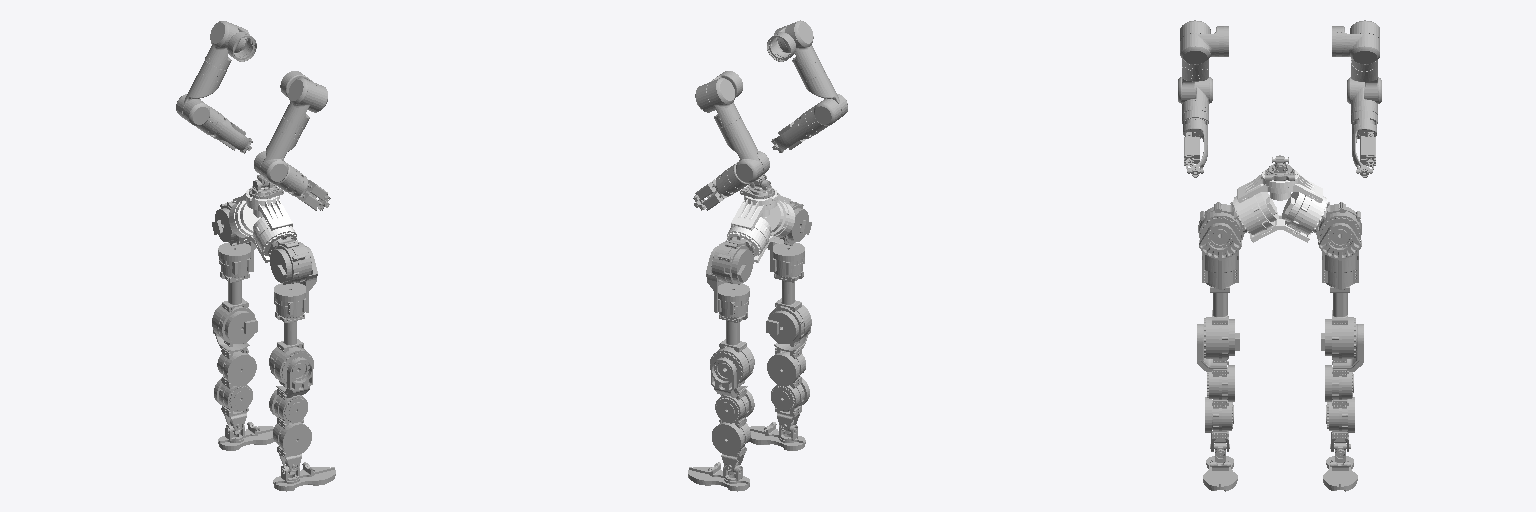
--- What the picture shows (computed from the rendered views, not written in the file) ---
3 views of the same robot in one strip: view 1: azimuth 30°, elevation 25°; view 2: azimuth 150°, elevation 25°; view 3: azimuth 270°, elevation 25° (orthographic).
Robot: dexbot — 30 links, 29 joints (12 revolute, 17 fixed); root link base_link; default pose: every joint at zero.
Visible links, largest first — view 1: leg_r4_link, base_link, leg_l4_link, leg_l3_link, leg_r1_link, leg_r3_link, arm_r3_link, leg_r2_link, leg_l2_link, arm_r2_link, leg_r6_link, arm_l3_link (+8 smaller); view 2: leg_l4_link, base_link, leg_r4_link, leg_r3_link, leg_l1_link, leg_l3_link, arm_l3_link, leg_l2_link, leg_r2_link, leg_l6_link, arm_l2_link, arm_r3_link (+8 smaller); view 3: base_link, leg_l4_link, leg_r4_link, leg_r2_link, leg_l2_link, leg_l3_link, leg_r3_link, arm_r1_link, arm_l1_link, arm_l5_link, arm_r5_link, leg_l1_link (+8 smaller).
Link boxes in pixels (x1,y1,x2,y2): leg_r4_link: [269, 358, 312, 471]; base_link: [229, 188, 296, 262]; leg_l4_link: [213, 310, 256, 430]; leg_l3_link: [212, 272, 257, 346]; leg_r1_link: [268, 235, 311, 284]; leg_r3_link: [269, 312, 313, 387]; arm_r3_link: [260, 117, 304, 182]; leg_r2_link: [274, 246, 317, 317]; leg_l2_link: [218, 242, 256, 277]; arm_r2_link: [283, 78, 316, 127]; leg_r6_link: [273, 462, 335, 491]; arm_l3_link: [176, 60, 226, 117]; leg_l4_link: [711, 358, 754, 471]; base_link: [727, 188, 794, 262]; leg_r4_link: [767, 309, 810, 430]; leg_r3_link: [766, 271, 811, 346]; leg_l1_link: [711, 235, 755, 284]; leg_l3_link: [710, 312, 754, 387]; arm_l3_link: [719, 117, 762, 182]; leg_l2_link: [706, 246, 749, 317]; leg_r2_link: [767, 242, 804, 277]; leg_l6_link: [688, 462, 749, 491]; arm_l2_link: [706, 78, 740, 127]; arm_r3_link: [798, 60, 847, 117]; base_link: [1233, 169, 1327, 242]; leg_l4_link: [1325, 324, 1363, 451]; leg_r4_link: [1197, 324, 1234, 451]; leg_r2_link: [1199, 223, 1241, 289]; leg_l2_link: [1319, 223, 1361, 289]; leg_l3_link: [1321, 286, 1356, 362]; leg_r3_link: [1204, 286, 1239, 362]; arm_r1_link: [1180, 26, 1228, 63]; arm_l1_link: [1332, 26, 1379, 63]; arm_l5_link: [1351, 110, 1377, 177]; arm_r5_link: [1182, 110, 1208, 177]; leg_l1_link: [1313, 202, 1361, 244].
Size in the robot's own frame: 0.3033 by 0.5764 by 1.4 metres.
Meshes: 30 distinct files referenced, 27 mesh visuals loaded (27 binary STL); not drawn: 3 (reference not matched to a file when rendering).

robot.urdf — dexbot:
<?xml version="1.0" encoding="utf-8"?>
<!-- This URDF was automatically created by SolidWorks to URDF Exporter! Originally created by Stephen Brawner ([email redacted]) 
     Commit Version: 1.6.0-4-g7f85cfe  Build Version: 1.6.7995.38578
     For more information, please see http://wiki.ros.org/sw_urdf_exporter -->
<robot
  name="dexbot">
  <mujoco>
    <compiler meshdir="../meshes/" balanceinertia="true" discardvisual="false"/>
  </mujoco>
  <link
    name="base_link">
    <inertial>
      <origin
        xyz="0.00026092 -2.8127E-06 -0.032217"
        rpy="0 0 0" />
      <mass
        value="6.36148470" />
      <inertia
        ixx="0.04306588"
        ixy="-0.00000008"
        ixz="-0.00001174"
        iyy="0.01886801"
        iyz="0.00000066"
        izz="0.03427573" />
    </inertial>
    <visual>
      <origin
        xyz="0 0 0"
        rpy="0 0 0" />
      <geometry>
        <mesh
          filename="../meshes/base_link.STL" />
      </geometry>
      <material
        name="">
        <color
          rgba="1 1 1 1" />
      </material>
    </visual>
    <collision>
      <origin
        xyz="0 0 0"
        rpy="0 0 0" />
      <geometry>
	    <box size="0.05 0.05 0.05"/>
      </geometry>
    </collision>
  </link>
 
  <link
    name="leg_l1_link">
    <inertial>
      <origin
        xyz="0.0017864690688535 0.116806232663126 -0.06730045557826"
        rpy="0 0 0" />
      <mass
        value="2.52127296" />
      <inertia
        ixx="0.00489363"
        ixy="0.00004173"
        ixz="-0.00002377"
        iyy="0.00398523"
        iyz="0.00008835"
        izz="0.00406691" />
    </inertial>
    <visual>
      <origin
        xyz="0 0 0"
        rpy="0 0 0" />
      <geometry>
        <mesh
          filename="../meshes/leg_l1_link.STL" />
      </geometry>
      <material
        name="">
        <color
          rgba="0.752941176470588 0.752941176470588 0.752941176470588 1" />
      </material>
    </visual>
    <collision>
      <origin
        xyz="0 0 0"
        rpy="0 0 0" />
      <geometry>
        <mesh
          filename="../meshes/leg_l1_link.STL" />
      </geometry>
    </collision>
  </link>
  <joint
    name="leg_l1_joint"
    type="revolute">
    <origin
      xyz="0 0.046765 -0.047489"
      rpy="0 0 0" />
    <parent
      link="base_link" />
    <child
      link="leg_l1_link" />
    <axis
      xyz="0 0.86603 -0.5" />
    <limit
      lower="-2.878"
      upper="2.878"
      effort="360"
      velocity="10" />
  </joint>
  <link
    name="leg_l2_link">
    <inertial>
      <origin
        xyz="0.0181611526889743 7.56912721500136E-07 -0.100016047593423"
        rpy="0 0 0" />
      <mass
        value="1.73504778" />
      <inertia
        ixx="0.00395397"
        ixy="-0.00000001"
        ixz="-0.00093866"
        iyy="0.00413227"
        iyz="-0.00000002"
        izz="0.00269158" />
    </inertial>
    <visual>
      <origin
        xyz="0 0 0"
        rpy="0 0 0" />
      <geometry>
        <mesh
          filename="../meshes/leg_l2_link.STL" />
      </geometry>
      <material
        name="">
        <color
          rgba="0.752941176470588 0.752941176470588 0.752941176470588 1" />
      </material>
    </visual>
    <collision>
      <origin
        xyz="0 0 0"
        rpy="0 0 0" />
      <geometry>
        <mesh
          filename="../meshes/leg_l2_link.STL" />
      </geometry>
    </collision>
  </link>
  <joint
    name="leg_l2_joint"
    type="revolute">
    <origin
      xyz="0 0.12298 -0.071"
      rpy="0 0 0" />
    <parent
      link="leg_l1_link" />
    <child
      link="leg_l2_link" />
    <axis
      xyz="1 0 0" />
    <limit
      lower="-0.523"
      upper="3.663"
      effort="360"
      velocity="10" />
  </joint>
  <link
    name="leg_l3_link">
    <inertial>
      <origin
        xyz="0.000114524600190401 0.00164777125622231 -0.147066721883769"
        rpy="0 0 0" />
      <mass
        value="2.61656788" />
      <inertia
        ixx="0.00782239"
        ixy="0.00006403"
        ixz="0.00007604"
        iyy="0.00840438"
        iyz="0.00005952"
        izz="0.00374500" />
    </inertial>
    <visual>
      <origin
        xyz="0 0 0"
        rpy="0 0 0" />
      <geometry>
        <mesh
          filename="../meshes/leg_l3_link.STL" />
      </geometry>
      <material
        name="">
        <color
          rgba="0.752941176470588 0.752941176470588 0.752941176470588 1" />
      </material>
    </visual>
    <collision>
      <origin
        xyz="0 0 0"
        rpy="0 0 0" />
      <geometry>
        <mesh
          filename="../meshes/leg_l3_link.STL" />
      </geometry>
    </collision>
  </link>
  <joint
    name="leg_l3_joint"
    type="revolute">
    <origin
      xyz="0 0 -0.167"
      rpy="0 0 0" />
    <parent
      link="leg_l2_link" />
    <child
      link="leg_l3_link" />
    <axis
      xyz="0 0 1" />
    <limit
      lower="-2.791"
      upper="2.791"
      effort="120"
      velocity="10" />
  </joint>
  <link
    name="leg_l4_link">
    <inertial>
      <origin
        xyz="-2.42788361047336E-08 0.00822937854237335 -0.173854656992678"
        rpy="0 0 0" />
      <mass
        value="3.31554813 " />
      <inertia
        ixx="0.01958814"
        ixy="1.45675411582526E-10"
        ixz="3.648473073682E-10"
        iyy="0.01919917"
        iyz="-0.00126641"
        izz="0.00408025" />
    </inertial>
    <visual>
      <origin
        xyz="0 0 0"
        rpy="0 0 0" />
      <geometry>
        <mesh
          filename="../meshes/leg_l4_link.STL" />
      </geometry>
      <material
        name="">
        <color
          rgba="0.752941176470588 0.752941176470588 0.752941176470588 1" />
      </material>
    </visual>
    <collision>
      <origin
        xyz="0 0 0"
        rpy="0 0 0" />
      <geometry>
	    <box size="0.1 0.1 0.2"/>
      </geometry>
    </collision>
  </link>
  <joint
    name="leg_l4_joint"
    type="revolute">
    <origin
      xyz="0 0 -0.173"
      rpy="0 0 0" />
    <parent
      link="leg_l3_link" />
    <child
      link="leg_l4_link" />
    <axis
      xyz="0 1 0" />
    <limit
      lower="-2.355"
      upper="2.355"
      effort="360"
      velocity="10" />
  </joint>
  <link
    name="leg_l5_link">
    <inertial>
      <origin
        xyz="4.00159781425996E-05 -1.65302931448563E-05 -0.00782114986776949"
        rpy="0 0 0" />
      <mass
        value="0.07526525" />
      <inertia
        ixx="0.00001536"
        ixy="2.28805291083391E-22"
        ixz="0.00000014"
        iyy="0.00001554"
        iyz="-2.04482003272117E-20"
        izz="0.00001540" />
    </inertial>
    <visual>
      <origin
        xyz="0 0 0"
        rpy="0 0 0" />
      <geometry>
        <mesh
          filename="../meshes/leg_l5_link.STL" />
      </geometry>
      <material
        name="">
        <color
          rgba="0.752941176470588 0.752941176470588 0.752941176470588 1" />
      </material>
    </visual>
    <collision>
      <origin
        xyz="0 0 0"
        rpy="0 0 0" />
      <geometry>
        <mesh
          filename="../meshes/leg_l5_link.STL" />
      </geometry>
    </collision>
  </link>
  <joint
    name="leg_l5_joint"
    type="revolute">
    <origin
      xyz="0 0 -0.34"
      rpy="0 -0 0" />
    <parent
      link="leg_l4_link" />
    <child
      link="leg_l5_link" />
    <axis
      xyz="0 1 0" />
    <limit
      lower="-1.046"
      upper="0.436"
      effort="120"
      velocity="10" />
    <dynamics
      damping="0."
      friction="0.1" />
  </joint>
  <link
    name="leg_l6_link">
    <inertial>
      <origin
        xyz="0.0457872515086006 -6.33583149833861E-09 -0.0382686559903004"
        rpy="0 0 0" />
      <mass
        value="0.53640572" />
      <inertia
        ixx="0.00030450"
        ixy="-6.41793064473971E-11"
        ixz="0.00006785"
        iyy="0.00162803"
        iyz="-5.36686897038477E-11"
        izz="0.00177516" />
    </inertial>
    <visual>
      <origin
        xyz="0 0 0"
        rpy="0 0 0" />
      <geometry>
        <mesh
          filename="../meshes/leg_l6_link.STL" />
      </geometry>
      <material
        name="">
        <color
          rgba="0.752941176470588 0.752941176470588 0.752941176470588 1" />
      </material>
    </visual>
    <collision>
      <origin
        xyz="0 0 0"
        rpy="0 0 0" />
      <geometry>
        <mesh
          filename="../meshes/leg_l6_link.STL" />
      </geometry>
    </collision>
  </link>
  <joint
    name="leg_l6_joint"
    type="revolute">
    <origin
      xyz="0 0 -0.015"
      rpy="0 0 0" />
    <parent
      link="leg_l5_link" />
    <child
      link="leg_l6_link" />
    <axis
      xyz="1 0 0" />
    <limit
      lower="-0.261"
      upper="0.261"
      effort="120"
      velocity="10" />
    <dynamics
      damping="0."
      friction="0.1" />
  </joint>
  <link
    name="leg_r1_link">
    <inertial>
      <origin
        xyz="0.00178614318038721 -0.11680589348535 -0.0673010430487607"
        rpy="0 0 0" />
      <mass
        value="2.52127296" />
      <inertia
        ixx="0.00489363"
        ixy="-0.00004169"
        ixz="-0.00002379"
        iyy="0.00398515"
        iyz="-0.00008830"
        izz="0.00406699" />
    </inertial>
    <visual>
      <origin
        xyz="0 0 0"
        rpy="0 0 0" />
      <geometry>
        <mesh
          filename="../meshes/leg_r1_link.STL" />
      </geometry>
      <material
        name="">
        <color
          rgba="0.752941176470588 0.752941176470588 0.752941176470588 1" />
      </material>
    </visual>
    <collision>
      <origin
        xyz="0 0 0"
        rpy="0 0 0" />
      <geometry>
        <mesh
          filename="../meshes/leg_r1_link.STL" />
      </geometry>
    </collision>
  </link>
  <joint
    name="leg_r1_joint"
    type="revolute">
    <origin
      xyz="0 -0.046765 -0.047489"
      rpy="0 -0 0" />
    <parent
      link="base_link" />
    <child
      link="leg_r1_link" />
    <axis
      xyz="0 0.86603 0.5" />
    <limit
      lower="-2.878"
      upper="2.878"
      effort="360"
      velocity="10" />
  </joint>
  <link
    name="leg_r2_link">
    <inertial>
      <origin
        xyz="0.0181611526889737 7.56912739346971E-07 -0.100016047593425"
        rpy="0 0 0" />
      <mass
        value="1.73504778 " />
      <inertia
        ixx="0.00395397"
        ixy="-0.00000001"
        ixz="-0.00093866"
        iyy="0.00413227"
        iyz="-0.00000002"
        izz="0.00269158" />
    </inertial>
    <visual>
      <origin
        xyz="0 0 0"
        rpy="0 0 0" />
      <geometry>
        <mesh
          filename="../meshes/leg_r2_link.STL" />
      </geometry>
      <material
        name="">
        <color
          rgba="0.752941176470588 0.752941176470588 0.752941176470588 1" />
      </material>
    </visual>
    <collision>
      <origin
        xyz="0 0 0"
        rpy="0 0 0" />
      <geometry>
        <mesh
          filename="../meshes/leg_r2_link.STL" />
      </geometry>
    </collision>
  </link>
  <joint
    name="leg_r2_joint"
    type="revolute">
    <origin
      xyz="0 -0.12298 -0.071"
      rpy="0 0 0" />
    <parent
      link="leg_r1_link" />
    <child
      link="leg_r2_link" />
    <axis
      xyz="1 0 0" />
    <limit
      lower="-3.663"
      upper="0.523"
      effort="360"
      velocity="10" />
  </joint>
  <link
    name="leg_r3_link">
    <inertial>
      <origin
        xyz="0.000114524600189936 -0.00164777130191504 -0.152066096139861"
        rpy="0 0 0" />
      <mass
        value="2.61656788" />
      <inertia
        ixx="0.00782235"
        ixy="-0.00006403"
        ixz="0.00007614"
        iyy="0.00840433"
        iyz="-0.00005955"
        izz="0.00374500" />
    </inertial>
    <visual>
      <origin
        xyz="0 0 0"
        rpy="0 0 0" />
      <geometry>
        <mesh
          filename="../meshes/leg_r3_link.STL" />
      </geometry>
      <material
        name="">
        <color
          rgba="0.752941176470588 0.752941176470588 0.752941176470588 1" />
      </material>
    </visual>
    <collision>
      <origin
        xyz="0 0 0"
        rpy="0 0 0" />
      <geometry>
        <mesh
          filename="../meshes/leg_r3_link.STL" />
      </geometry>
    </collision>
  </link>
  <joint
    name="leg_r3_joint"
    type="revolute">
    <origin
      xyz="0 0 -0.162"
      rpy="0 0 0" />
    <parent
      link="leg_r2_link" />
    <child
      link="leg_r3_link" />
    <axis
      xyz="0 0 1" />
    <limit
      lower="-2.791"
      upper="2.791"
      effort="120"
      velocity="10" />
  </joint>
  <link
    name="leg_r4_link">
    <inertial>
      <origin
        xyz="2.42790771935745E-08 -0.00822937854297046 -0.173854656994349"
        rpy="0 0 0" />
      <mass
        value="3.31554813" />
      <inertia
        ixx="0.01958814"
        ixy="1.4568009343734E-10"
        ixz="-3.64833965217596E-10"
        iyy="0.01919917"
        iyz="0.00126641"
        izz="0.00408025" />
    </inertial>
    <visual>
      <origin
        xyz="0 0 0"
        rpy="0 0 0" />
      <geometry>
        <mesh
          filename="../meshes/leg_r4_link.STL" />
      </geometry>
      <material
        name="">
        <color
          rgba="0.752941176470588 0.752941176470588 0.752941176470588 1" />
      </material>
    </visual>
    <collision>
      <origin
        xyz="0 0 0"
        rpy="0 0 0" />
      <geometry>
	    <box size="0.1 0.1 0.2"/>
      </geometry>
    </collision>
  </link>
  <joint
    name="leg_r4_joint"
    type="revolute">
    <origin
      xyz="0 0 -0.178"
      rpy="0 0 0" />
    <parent
      link="leg_r3_link" />
    <child
      link="leg_r4_link" />
    <axis
      xyz="0 1 0" />
    <limit
      lower="-2.355"
      upper="2.355"
      effort="360"
      velocity="10" />
  </joint>
  <link
    name="leg_r5_link">
    <inertial>
      <origin
        xyz="4.00159781427515E-05 1.65302931921796E-05 -0.00782114986777116"
        rpy="0 0 0" />
      <mass
        value="0.07526525 " />
      <inertia
        ixx="0.00001536"
        ixy="-6.76802670148237E-22"
        ixz="0.00000014"
        iyy="0.00001554"
        iyz="-6.28566146662745E-21"
        izz="0.00001540" />
    </inertial>
    <visual>
      <origin
        xyz="0 0 0"
        rpy="0 0 0" />
      <geometry>
        <mesh
          filename="../meshes/leg_r5_link.STL" />
      </geometry>
      <material
        name="">
        <color
          rgba="0.752941176470588 0.752941176470588 0.752941176470588 1" />
      </material>
    </visual>
    <collision>
      <origin
        xyz="0 0 0"
        rpy="0 0 0" />
      <geometry>
        <mesh
          filename="../meshes/leg_r5_link.STL" />
      </geometry>
    </collision>
  </link>
  <joint
    name="leg_r5_joint"
    type="revolute">
    <origin
      xyz="0 0 -0.34"
      rpy="0 -0 0" />
    <parent
      link="leg_r4_link" />
    <child
      link="leg_r5_link" />
    <axis
      xyz="0 1 0" />
    <limit
      lower="-1.046"
      upper="0.436"
      effort="120"
      velocity="10" />
    <dynamics
      damping="0."
      friction="0.1" />
  </joint>
  <link
    name="leg_r6_link">
    <inertial>
      <origin
        xyz="0.0457872515086024 -6.33582283859901E-09 -0.0382686559903024"
        rpy="0 0 0" />
      <mass
        value="0.53640572" />
      <inertia
        ixx="0.00030450"
        ixy="-6.41793116816966E-11"
        ixz="0.00006785"
        iyy="0.00162803"
        iyz="-5.36686913549503E-11"
        izz="0.00177516" />
    </inertial>
    <visual>
      <origin
        xyz="0 0 0"
        rpy="0 0 0" />
      <geometry>
        <mesh
          filename="../meshes/leg_r6_link.STL" />
      </geometry>
      <material
        name="">
        <color
          rgba="0.752941176470588 0.752941176470588 0.752941176470588 1" />
      </material>
    </visual>
    <collision>
      <origin
        xyz="0 0 0"
        rpy="0 0 0" />
      <geometry>
        <mesh
          filename="../meshes/leg_r6_link.STL" />
      </geometry>
    </collision>
  </link>
  <joint
    name="leg_r6_joint"
    type="revolute">
    <origin
      xyz="0 0 -0.015"
      rpy="0 0 0" />
    <parent
      link="leg_r5_link" />
    <child
      link="leg_r6_link" />
    <axis
      xyz="1 0 0" />
    <limit
      lower="-0.261"
      upper="0.261"
      effort="120"
      velocity="10" />
    <dynamics
      damping="0."
      friction="0.1" />
  </joint>
  <link
    name="waist_yaw_link">
    <inertial>
      <origin
        xyz="0.00787627921192027 -2.35767009722762E-05 -0.0105472849579242"
        rpy="0 0 0" />
      <mass
        value="0.24957042" />
      <inertia
        ixx="0.00019007"
        ixy="0.00000020"
        ixz="-0.00000368"
        iyy="0.00021255"
        iyz="0.00000002"
        izz="0.00030541" />
    </inertial>
    <visual>
      <origin
        xyz="0 0 0"
        rpy="0 0 0" />
      <geometry>
        <mesh
          filename="../meshes/waist_yaw_link.STL" />
      </geometry>
      <material
        name="">
        <color
          rgba="0.752941176470588 0.752941176470588 0.752941176470588 1" />
      </material>
    </visual>
    <collision>
      <origin
        xyz="0 0 0"
        rpy="0 0 0" />
      <geometry>
        <mesh
          filename="../meshes/waist_yaw_link.STL" />
      </geometry>
    </collision>
  </link>
  <joint
    name="waist_yaw_joint"
    type="fixed">
    <origin
      xyz="0 0 0.068702"
      rpy="0 0.05 0" />
    <parent
      link="base_link" />
    <child
      link="waist_yaw_link" />
    <axis
      xyz="0 0 1" />
    <limit
      lower="-1"
      upper="1"
      effort="120"
      velocity="10" />
  </joint>
  <link
    name="waist_roll_link">
    <inertial>
      <origin
        xyz="-0.000388928550485794 0.000350132910345151 0.00738202287463685"
        rpy="0 0 0" />
      <mass
        value="0.16196054" />
      <inertia
        ixx="0.00002646"
        ixy="-0.00000002"
        ixz="-0.00000046"
        iyy="0.00003035"
        iyz="-0.00000038"
        izz="0.00003003" />
    </inertial>
    <visual>
      <origin
        xyz="0 0 0"
        rpy="0 0 0" />
      <geometry>
        <mesh
          filename="../meshes/waist_roll_link.STL" />
      </geometry>
      <material
        name="">
        <color
          rgba="0.752941176470588 0.752941176470588 0.752941176470588 1" />
      </material>
    </visual>
    <collision>
      <origin
        xyz="0 0 0"
        rpy="0 0 0" />
      <geometry>
        <mesh
          filename="../meshes/waist_roll_link.STL" />
      </geometry>
    </collision>
  </link>
  <joint
    name="waist_roll_joint"
    type="fixed">
    <origin
      xyz="0 0 0.013"
      rpy="0 0 0" />
    <parent
      link="waist_yaw_link" />
    <child
      link="waist_roll_link" />
    <axis
      xyz="1 0 0" />
    <limit
      lower="-1"
      upper="1"
      effort="120"
      velocity="10" />
  </joint>
  <link
    name="waist_pitch_link">
    <inertial>
      <origin
        xyz="-0.00970826894856499 -0.000666017269940171 0.246498190853554"
        rpy="0 0 0" />
      <mass
        value="16.58516457 " />
      <inertia
        ixx="0.39246282"
        ixy="-0.00207990"
        ixz="-0.00581603"
        iyy="0.34173665"
        iyz="-0.00122791"
        izz="0.12457224" />
    </inertial>
    <visual>
      <origin
        xyz="0 0 0"
        rpy="0 0 0" />
      <geometry>
        <mesh
          filename="../meshes/waist_pitch_link.STL" />
      </geometry>
      <material
        name="">
        <color
          rgba="0.752941176470588 0.752941176470588 0.752941176470588 1" />
      </material>
    </visual>
    <collision>
      <origin
        xyz="0 0 0"
        rpy="0 0 0" />
      <geometry>
        <mesh
          filename="../meshes/waist_pitch_link.STL" />
      </geometry>
    </collision>
  </link>
  <joint
    name="waist_pitch_joint"
    type="fixed">
    <origin
      xyz="0 0 0.014"
      rpy="0 0 0" />
    <parent
      link="waist_roll_link" />
    <child
      link="waist_pitch_link" />
    <axis
      xyz="0 1 0" />
    <limit
      lower="-1"
      upper="1"
      effort="120"
      velocity="10" />
  </joint>
  <link
    name="arm_l1_link">
    <inertial>
      <origin
        xyz="0.0121006127120013 0.0572041155775264 -4.1012711069488E-06"
        rpy="0 0 0" />
      <mass
        value="0.20393504" />
      <inertia
        ixx="0.00045830"
        ixy="-0.00008360"
        ixz="-0.00000002"
        iyy="0.00028678"
        iyz="-0.00000003"
        izz="0.00041174" />
    </inertial>
    <visual>
      <origin
        xyz="0 0 0"
        rpy="0 0 0" />
      <geometry>
        <mesh
          filename="../meshes/arm_l1_link.STL" />
      </geometry>
      <material
        name="">
        <color
          rgba="0.752941176470588 0.752941176470588 0.752941176470588 1" />
      </material>
    </visual>
    <collision>
      <origin
        xyz="0 0 0"
        rpy="0 0 0" />
      <geometry>
        <mesh
          filename="../meshes/arm_l1_link.STL" />
      </geometry>
    </collision>
  </link>
  <joint
    name="arm_l1_joint"
    type="fixed">
    <origin
      xyz="0 0.144 0.38"
      rpy="0 0.5 0" />
    <parent
      link="waist_pitch_link" />
    <child
      link="arm_l1_link" />
    <axis
      xyz="0 1 0" />
    <limit
      lower="-1"
      upper="1"
      effort="120"
      velocity="10" />
  </joint>
  <link
    name="arm_l2_link">
    <inertial>
      <origin
        xyz="-0.00161764285940526 -3.97015482295204E-07 -0.00579799005909298"
        rpy="0 0 0" />
      <mass
        value="1.00374304" />
      <inertia
        ixx="0.00116457"
        ixy="-6.74756971402415E-08"
        ixz="0.00001309"
        iyy="0.00126789"
        iyz="-0.00000004"
        izz="0.00092462" />
    </inertial>
    <visual>
      <origin
        xyz="0 0 0"
        rpy="0 0 0" />
      <geometry>
        <mesh
          filename="../meshes/arm_l2_link.STL" />
      </geometry>
      <material
        name="">
        <color
          rgba="0.752941176470588 0.752941176470588 0.752941176470588 1" />
      </material>
    </visual>
    <collision>
      <origin
        xyz="0 0 0"
        rpy="0 0 0" />
      <geometry>
        <mesh
          filename="../meshes/arm_l2_link.STL" />
      </geometry>
    </collision>
  </link>
  <joint
    name="arm_l2_joint"
    type="fixed">
    <origin
      xyz="-0.001 0.096 0"
      rpy="0 0 0" />
    <parent
      link="arm_l1_link" />
    <child
      link="arm_l2_link" />
    <axis
      xyz="1 0 0" />
    <limit
      lower="-1"
      upper="1"
      effort="120"
      velocity="10" />
  </joint>
  <link
    name="arm_l3_link">
    <inertial>
      <origin
        xyz="9.00903682174029E-05 0.00118340656204821 -0.0833842312044012"
        rpy="0 0 0" />
      <mass
        value="1.48114068" />
      <inertia
        ixx="0.00792989"
        ixy="-0.00000373"
        ixz="0.00003198"
        iyy="0.00779496"
        iyz="0.00014312"
        izz="0.00106001" />
    </inertial>
    <visual>
      <origin
        xyz="0 0 0"
        rpy="0 0 0" />
      <geometry>
        <mesh
          filename="../meshes/arm_l3_link.STL" />
      </geometry>
      <material
        name="">
        <color
          rgba="0.752941176470588 0.752941176470588 0.752941176470588 1" />
      </material>
    </visual>
    <collision>
      <origin
        xyz="0 0 0"
        rpy="0 0 0" />
      <geometry>
        <mesh
          filename="../meshes/arm_l3_link.STL" />
      </geometry>
    </collision>
  </link>
  <joint
    name="arm_l3_joint"
    type="fixed">
    <origin
      xyz="0.001 0 -0.096003"
      rpy="0 0 0" />
    <parent
      link="arm_l2_link" />
    <child
      link="arm_l3_link" />
    <axis
      xyz="0 0 1" />
    <limit
      lower="-1"
      upper="1"
      effort="120"
      velocity="10" />
  </joint>
  <link
    name="arm_l4_link">
    <inertial>
      <origin
        xyz="1.49804098653616E-07 -0.0117030083597582 -0.0301791602436848"
        rpy="0 0 0" />
      <mass
        value="0.15069185" />
      <inertia
        ixx="0.00021956"
        ixy="-4.35065508759493E-10"
        ixz="8.14225140142345E-10"
        iyy="0.00024171"
        iyz="0.00004659"
        izz="0.00016652" />
    </inertial>
    <visual>
      <origin
        xyz="0 0 0"
        rpy="0 0 0" />
      <geometry>
        <mesh
          filename="../meshes/arm_l4_link.STL" />
      </geometry>
      <material
        name="">
        <color
          rgba="0.752941176470588 0.752941176470588 0.752941176470588 1" />
      </material>
    </visual>
    <collision>
      <origin
        xyz="0 0 0"
        rpy="0 0 0" />
      <geometry>
        <mesh
          filename="../meshes/arm_l4_link.STL" />
      </geometry>
    </collision>
  </link>
  <joint
    name="arm_l4a_joint"
    type="fixed">
    <origin
      xyz="0.0012982 -0.00057271 -0.154"
      rpy="0 -1.4 0" />
    <parent
      link="arm_l3_link" />
    <child
      link="arm_l4_link" />
    <axis
      xyz="0 1 0" />
    <limit
      lower="-1"
      upper="1"
      effort="120"
      velocity="10" />
  </joint>
  <link
    name="arm_l5_link">
    <inertial>
      <origin
        xyz="-2.29959343993162E-08 0.000734391169738891 -0.0354032821121625"
        rpy="0 0 0" />
      <mass
        value="0.93167260" />
      <inertia
        ixx="0.00229040"
        ixy="1.52390942101639E-09"
        ixz="2.15023246986411E-11"
        iyy="0.00228533"
        iyz="0.00004692"
        izz="0.00058394" />
    </inertial>
    <visual>
      <origin
        xyz="0 0 0"
        rpy="0 0 0" />
      <geometry>
        <mesh
          filename="../meshes/arm_l5_link.STL" />
      </geometry>
      <material
        name="">
        <color
          rgba="0.752941176470588 0.752941176470588 0.752941176470588 1" />
      </material>
    </visual>
    <collision>
      <origin
        xyz="0 0 0"
        rpy="0 0 0" />
      <geometry>
        <mesh
          filename="../meshes/arm_l5_link.STL" />
      </geometry>
    </collision>
  </link>
  <joint
    name="arm_l5a_joint"
    type="fixed">
    <origin
      xyz="0 -0.0010034 -0.078003"
      rpy="0 0 0" />
    <parent
      link="arm_l4_link" />
    <child
      link="arm_l5_link" />
    <axis
      xyz="0 0 1" />
    <limit
      lower="-1"
      upper="1"
      effort="120"
      velocity="10" />
  </joint>
  <link
    name="arm_l6_link">
    <inertial>
      <origin
        xyz="7.00162865575459E-05 -6.51130576661829E-05 -1.23502315145518E-11"
        rpy="0 0 0" />
      <mass
        value="0.05019123" />
      <inertia
        ixx="0.00000729"
        ixy="2.55780907874052E-11"
        ixz="4.94641661915567E-18"
        iyy="0.00000887"
        iyz="1.03998630487718E-13"
        izz="0.00001475" />
    </inertial>
    <visual>
      <origin
        xyz="0 0 0"
        rpy="0 0 0" />
      <geometry>
        <mesh
          filename="../meshes/arm_l6_link.STL" />
      </geometry>
      <material
        name="">
        <color
          rgba="0.752941176470588 0.752941176470588 0.752941176470588 1" />
      </material>
    </visual>
    <collision>
      <origin
        xyz="0 0 0"
        rpy="0 0 0" />
      <geometry>
        <mesh
          filename="../meshes/arm_l6_link.STL" />
      </geometry>
    </collision>
  </link>
  <joint
    name="arm_l6a_joint"
    type="fixed">
    <origin
      xyz="0 0 -0.172"
      rpy="0 0 0" />
    <parent
      link="arm_l5_link" />
    <child
      link="arm_l6_link" />
    <axis
      xyz="0 1 0" />
    <limit
      lower="-1"
      upper="1"
      effort="120"
      velocity="10" />
  </joint>
  <link
    name="arm_l7_link">
    <inertial>
      <origin
        xyz="0.00334756121687912 -0.00476719714664378 -0.0608151433410942"
        rpy="0 0 0" />
      <mass
        value="0.69558462" />
      <inertia
        ixx="0.00242159"
        ixy="0.00021734"
        ixz="0.00000364"
        iyy="0.00237365"
        iyz="-0.00009025"
        izz="0.00091109" />
    </inertial>
    <visual>
      <origin
        xyz="0 0 0"
        rpy="0 0 0" />
      <geometry>
        <mesh
          filename="../meshes/arm_l7_link.STL" />
      </geometry>
      <material
        name="">
        <color
          rgba="0.752941176470588 0.752941176470588 0.752941176470588 1" />
      </material>
    </visual>
    <collision>
      <origin
        xyz="0 0 0"
        rpy="0 0 0" />
      <geometry>
        <mesh
          filename="../meshes/arm_l7_link.STL" />
      </geometry>
    </collision>
  </link>
  <joint
    name="arm_l7_joint"
    type="fixed">
    <origin
      xyz="0 0 0"
      rpy="0 0 0" />
    <parent
      link="arm_l6_link" />
    <child
      link="arm_l7_link" />
    <axis
      xyz="1 0 0" />
    <limit
      lower="-1"
      upper="1"
      effort="120"
      velocity="10" />
  </joint>
  <link
    name="arm_r1_link">
    <inertial>
      <origin
        xyz="0.0121006127119993 -0.057204115577526 4.10127110739289E-06"
        rpy="0 0 0" />
      <mass
        value="0.20393504" />
      <inertia
        ixx="0.00045830"
        ixy="0.00008360"
        ixz="0.00000002"
        iyy="0.00028678"
        iyz="-0.00000003"
        izz="0.00041174" />
    </inertial>
    <visual>
      <origin
        xyz="0 0 0"
        rpy="0 0 0" />
      <geometry>
        <mesh
          filename="../meshes/arm_r1_link.STL" />
      </geometry>
      <material
        name="">
        <color
          rgba="0.752941176470588 0.752941176470588 0.752941176470588 1" />
      </material>
    </visual>
    <collision>
      <origin
        xyz="0 0 0"
        rpy="0 0 0" />
      <geometry>
        <mesh
          filename="../meshes/arm_r1_link.STL" />
      </geometry>
    </collision>
  </link>
  <joint
    name="arm_r1_joint"
    type="fixed">
    <origin
      xyz="0 -0.144 0.38"
      rpy="0 0.5 0" />
    <parent
      link="waist_pitch_link" />
    <child
      link="arm_r1_link" />
    <axis
      xyz="0 1 0" />
    <limit
      lower="-1"
      upper="1"
      effort="120"
      velocity="10" />
  </joint>
  <link
    name="arm_r2_link">
    <inertial>
      <origin
        xyz="-0.00161764285940585 -3.97015482239693E-07 -0.00579799005909115"
        rpy="0 0 0" />
      <mass
        value="1.00374304 " />
      <inertia
        ixx="0.00116457"
        ixy="-6.74756971405435E-08"
        ixz="0.00001309"
        iyy="0.00126789"
        iyz="-0.00000004"
        izz="0.00092462" />
    </inertial>
    <visual>
      <origin
        xyz="0 0 0"
        rpy="0 0 0" />
      <geometry>
        <mesh
          filename="../meshes/arm_r2_link.STL" />
      </geometry>
      <material
        name="">
        <color
          rgba="0.752941176470588 0.752941176470588 0.752941176470588 1" />
      </material>
    </visual>
    <collision>
      <origin
        xyz="0 0 0"
        rpy="0 0 0" />
      <geometry>
        <mesh
          filename="../meshes/arm_r2_link.STL" />
      </geometry>
    </collision>
  </link>
  <joint
    name="arm_r2_joint"
    type="fixed">
    <origin
      xyz="-0.001 -0.096 0"
      rpy="0 0 0" />
    <parent
      link="arm_r1_link" />
    <child
      link="arm_r2_link" />
    <axis
      xyz="1 0 0" />
    <limit
      lower="-1"
      upper="1"
      effort="120"
      velocity="10" />
  </joint>
  <link
    name="arm_r3_link">
    <inertial>
      <origin
        xyz="-0.000671783132810063 -0.00211765209034712 -0.083500800793755"
        rpy="0 0 0" />
      <mass
        value="1.48145355" />
      <inertia
        ixx="0.00794073"
        ixy="0.00000208"
        ixz="-0.00002549"
        iyy="0.00780300"
        iyz="-0.00021459"
        izz="0.00106151" />
    </inertial>
    <visual>
      <origin
        xyz="0 0 0"
        rpy="0 0 0" />
      <geometry>
        <mesh
          filename="../meshes/arm_r3_link.STL" />
      </geometry>
      <material
        name="">
        <color
          rgba="0.752941176470588 0.752941176470588 0.752941176470588 1" />
      </material>
    </visual>
    <collision>
      <origin
        xyz="0 0 0"
        rpy="0 0 0" />
      <geometry>
        <mesh
          filename="../meshes/arm_r3_link.STL" />
      </geometry>
    </collision>
  </link>
  <joint
    name="arm_r3_joint"
    type="fixed">
    <origin
      xyz="0.001 0 -0.096003"
      rpy="0 0 0" />
    <parent
      link="arm_r2_link" />
    <child
      link="arm_r3_link" />
    <axis
      xyz="0 0 1" />
    <limit
      lower="-1"
      upper="1"
      effort="120"
      velocity="10" />
  </joint>
  <link
    name="arm_r4_link">
    <inertial>
      <origin
        xyz="-1.49804148750482E-07 0.00969955585975837 -0.0301791602436828"
        rpy="0 0 0" />
      <mass
        value="0.15069185" />
      <inertia
        ixx="0.00021956"
        ixy="-4.3506550876695E-10"
        ixz="-8.14225149772878E-10"
        iyy="0.00024171"
        iyz="-0.00004659"
        izz="0.00016652" />
    </inertial>
    <visual>
      <origin
        xyz="0 0 0"
        rpy="0 0 0" />
      <geometry>
        <mesh
          filename="../meshes/arm_r4_link.STL" />
      </geometry>
      <material
        name="">
        <color
          rgba="0.752941176470588 0.752941176470588 0.752941176470588 1" />
      </material>
    </visual>
    <collision>
      <origin
        xyz="0 0 0"
        rpy="0 0 0" />
      <geometry>
        <mesh
          filename="../meshes/arm_r4_link.STL" />
      </geometry>
    </collision>
  </link>
  <joint
    name="arm_r4a_joint"
    type="fixed">
    <origin
      xyz="0 0.0010035 -0.154"
      rpy="0 -1.4 0" />
    <parent
      link="arm_r3_link" />
    <child
      link="arm_r4_link" />
    <axis
      xyz="0 1 0" />
    <limit
      lower="-1"
      upper="1"
      effort="120"
      velocity="10" />
  </joint>
  <link
    name="arm_r5_link">
    <inertial>
      <origin
        xyz="2.29839983262953E-08 -0.000734384448753372 -0.0354032823706018"
        rpy="0 0 0" />
      <mass
        value="0.93167260 " />
      <inertia
        ixx="0.00229040"
        ixy="1.5237215482151E-09"
        ixz="-2.0558612775884E-11"
        iyy="0.00358688"
        iyz="-0.00004692"
        izz="0.00058394" />
    </inertial>
    <visual>
      <origin
        xyz="0 0 0"
        rpy="0 0 0" />
      <geometry>
        <mesh
          filename="../meshes/arm_r5_link.STL" />
      </geometry>
      <material
        name="">
        <color
          rgba="0.752941176470588 0.752941176470588 0.752941176470588 1" />
      </material>
    </visual>
    <collision>
      <origin
        xyz="0 0 0"
        rpy="0 0 0" />
      <geometry>
        <mesh
          filename="../meshes/arm_r5_link.STL" />
      </geometry>
    </collision>
  </link>
  <joint
    name="arm_r5a_joint"
    type="fixed">
    <origin
      xyz="0 -0.001 -0.078"
      rpy="0 0 0" />
    <parent
      link="arm_r4_link" />
    <child
      link="arm_r5_link" />
    <axis
      xyz="0 0 1" />
    <limit
      lower="-1"
      upper="1"
      effort="120"
      velocity="10" />
  </joint>
  <link
    name="arm_r6_link">
    <inertial>
      <origin
        xyz="-7.00162865573658E-05 6.51130576662107E-05 -2.24213009270002E-16"
        rpy="0 0 0" />
      <mass
        value="0.05019123" />
      <inertia
        ixx="0.00000729"
        ixy="2.55780907869747E-11"
        ixz="-1.44171828316231E-22"
        iyy="0.00000887"
        iyz="4.28611718593901E-22"
        izz="0.00001475" />
    </inertial>
    <visual>
      <origin
        xyz="0 0 0"
        rpy="0 0 0" />
      <geometry>
        <mesh
          filename="../meshes/arm_r6_link.STL" />
      </geometry>
      <material
        name="">
        <color
          rgba="0.752941176470588 0.752941176470588 0.752941176470588 1" />
      </material>
    </visual>
    <collision>
      <origin
        xyz="0 0 0"
        rpy="0 0 0" />
      <geometry>
        <mesh
          filename="../meshes/arm_r6_link.STL" />
      </geometry>
    </collision>
  </link>
  <joint
    name="arm_r6a_joint"
    type="fixed">
    <origin
      xyz="0 0 -0.172"
      rpy="0 0 0" />
    <parent
      link="arm_r5_link" />
    <child
      link="arm_r6_link" />
    <axis
      xyz="0 1 0" />
    <limit
      lower="-1"
      upper="1"
      effort="120"
      velocity="10" />
  </joint>
  <link
    name="arm_r7_link">
    <inertial>
      <origin
        xyz="0.00392280627605782 0.00445165416771251 -0.0608201661717542"
        rpy="0 0 0" />
      <mass
        value="0.69558462" />
      <inertia
        ixx="0.00238316"
        ixy="-0.00021760"
        ixz="0.00000923"
        iyy="0.00241114"
        iyz="0.00008965"
        izz="0.00091078" />
    </inertial>
    <visual>
      <origin
        xyz="0 0 0"
        rpy="0 0 0" />
      <geometry>
        <mesh
          filename="../meshes/arm_r7_link.STL" />
      </geometry>
      <material
        name="">
        <color
          rgba="0.752941176470588 0.752941176470588 0.752941176470588 1" />
      </material>
    </visual>
    <collision>
      <origin
        xyz="0 0 0"
        rpy="0 0 0" />
      <geometry>
        <mesh
          filename="../meshes/arm_r7_link.STL" />
      </geometry>
    </collision>
  </link>
  <joint
    name="arm_r7_joint"
    type="fixed">
    <origin
      xyz="0 0 0"
      rpy="0 0 0" />
    <parent
      link="arm_r6_link" />
    <child
      link="arm_r7_link" />
    <axis
      xyz="1 0 0" />
    <limit
      lower="-1"
      upper="1"
      effort="120"
      velocity="10" />
  </joint>
</robot>
